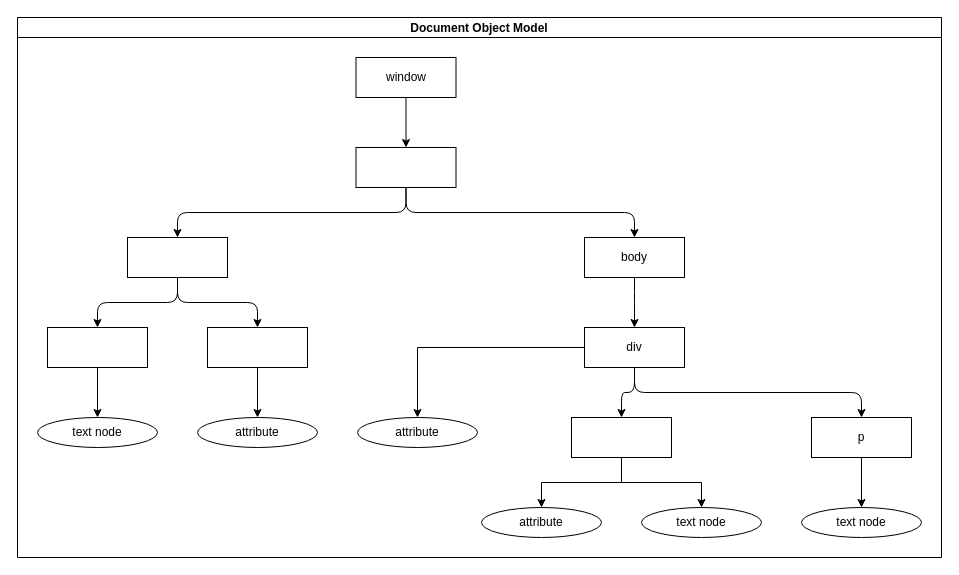
This 959x575 diagram has some shape labels left out. The box of each missing label's shape, as (x1, y1, x2, y2) in pixels:
document: (355, 146, 456, 188)
h1: (570, 416, 672, 458)
head: (126, 236, 228, 278)
meta: (206, 326, 308, 368)
title: (46, 326, 148, 368)
